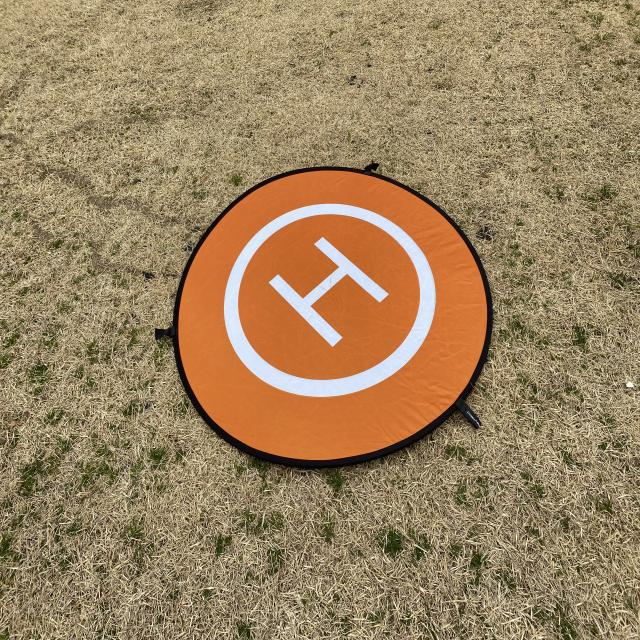helipad: (221, 202, 438, 399)
